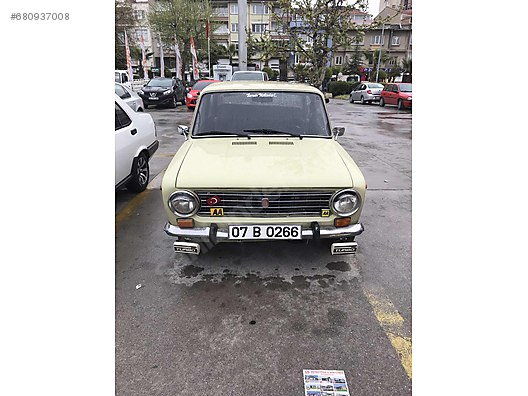murat: (163, 79, 363, 257)
